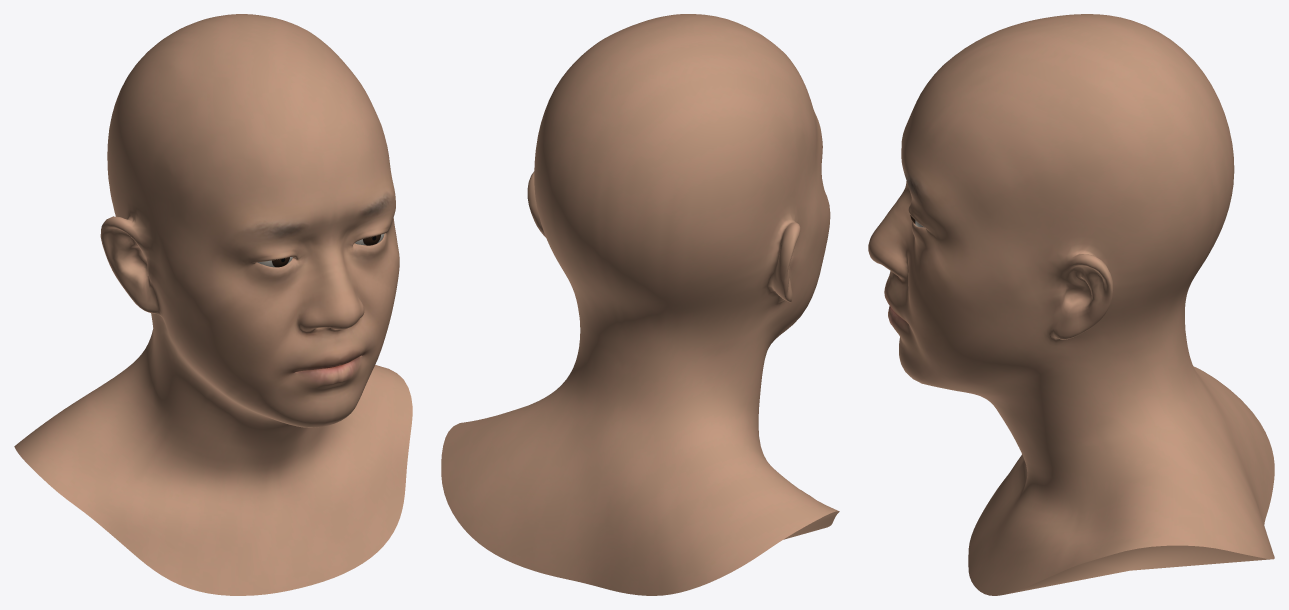
File: base-male.glb
3 views of the same model, side by side, from view 1: azimuth 30°, elevation 25°; view 2: azimuth 150°, elevation 25°; view 3: azimuth 270°, elevation 25° (orthographic). The views are drawn at different scales.
Visible parts, largest first — view 1: skin; view 2: skin; view 3: skin, neck-cap.
Boxes of the visible parts, x1,y1,x2,y2 form: skin: (14, 14, 412, 595); skin: (441, 14, 838, 595); skin: (868, 14, 1274, 595); neck-cap: (1005, 545, 1269, 594).
Bounding box in the file's own units: 0.2554 × 0.3475 × 0.2354.
7 materials, 4 textured.
